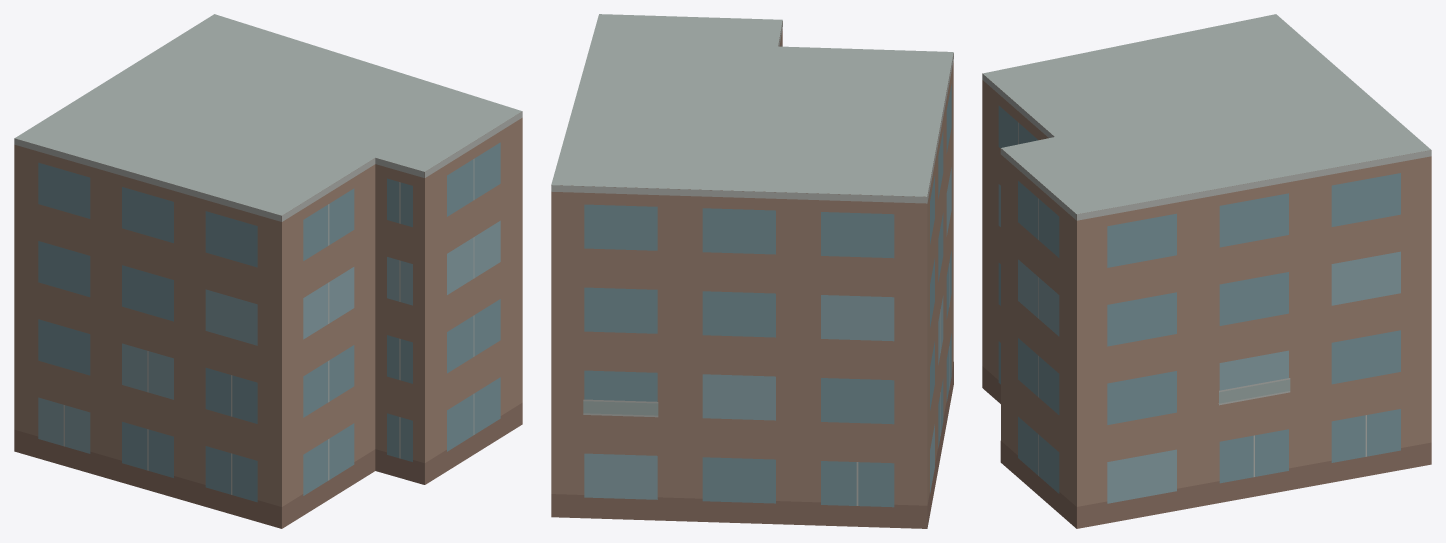
File: survey-upis-32739954.glb
The picture shows the model from 3 angles, left to right: view 1: azimuth 30°, elevation 25°; view 2: azimuth 150°, elevation 25°; view 3: azimuth 270°, elevation 25°; orthographic projection. The views are drawn at different scales.
Parts seen in each view (by area): view 1: survey-upis-32739954.tmp; view 2: survey-upis-32739954.tmp; view 3: survey-upis-32739954.tmp.
Boxes of the visible parts, x1,y1,x2,y2 form: survey-upis-32739954.tmp: (14,14,522,528); survey-upis-32739954.tmp: (551,14,953,528); survey-upis-32739954.tmp: (982,14,1431,528).
Size of the model in its own units: 16.54 by 12.1 by 15.67.
